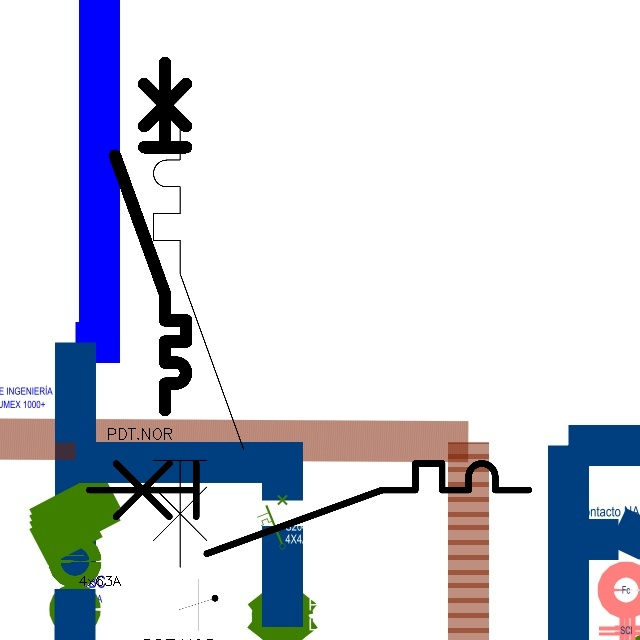interruptor_termomagnetico: (142, 115, 255, 579), (78, 452, 540, 565), (106, 54, 195, 419)
